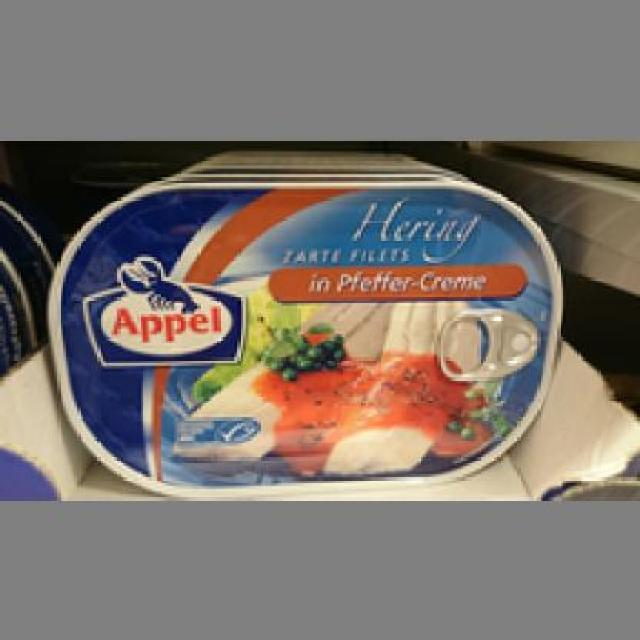Fish: (46, 180, 560, 494)
